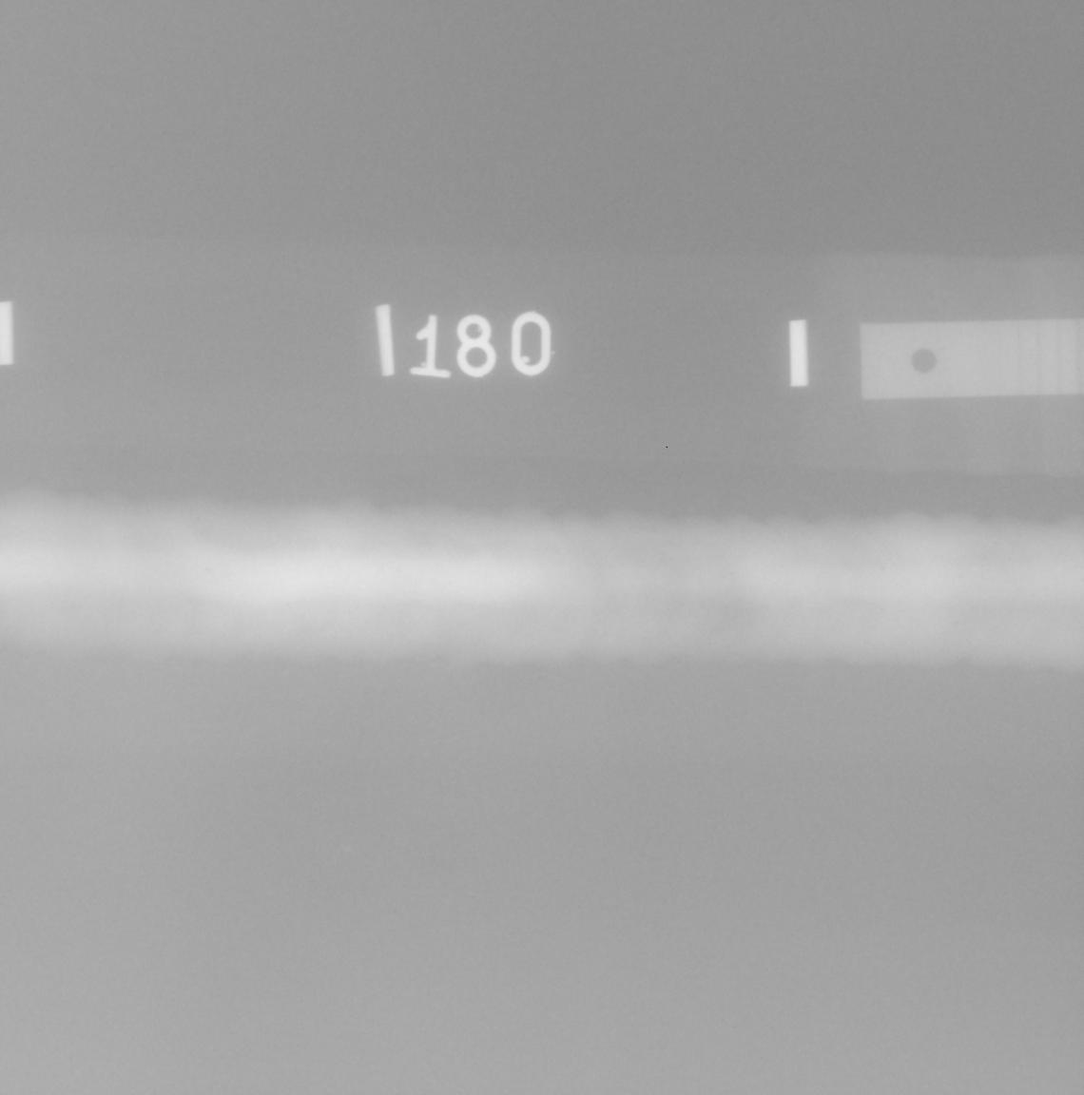Inclusion: (953, 622, 966, 626)
Pore/Porosity: (205, 568, 213, 574), (881, 566, 885, 572)
